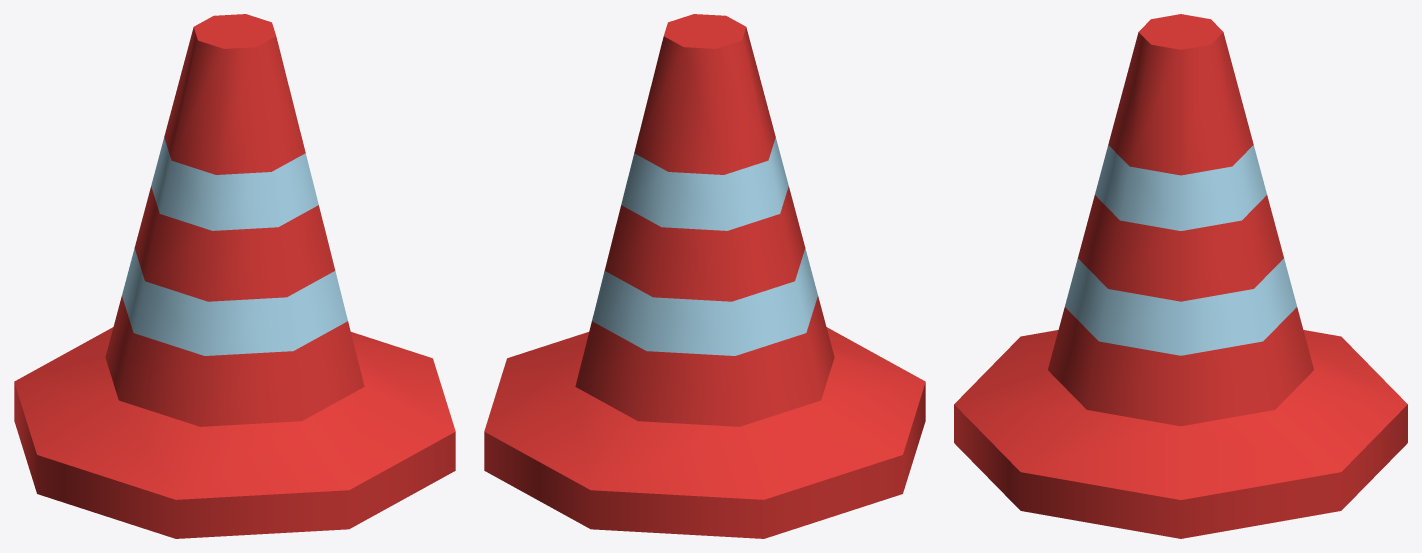
Rendered from Duba.fbx.
3 views of the same model, side by side, from view 1: azimuth 30°, elevation 25°; view 2: azimuth 150°, elevation 25°; view 3: azimuth 270°, elevation 25° (orthographic).
Parts seen in each view (by area): view 1: Duba; view 2: Duba; view 3: Duba.
Boxes of the visible parts, x1,y1,x2,y2 form: Duba: (14, 14, 455, 538); Duba: (484, 14, 925, 538); Duba: (954, 14, 1407, 538).
Bounding box in the file's own units: 2.64 × 2.64 × 2.64.
